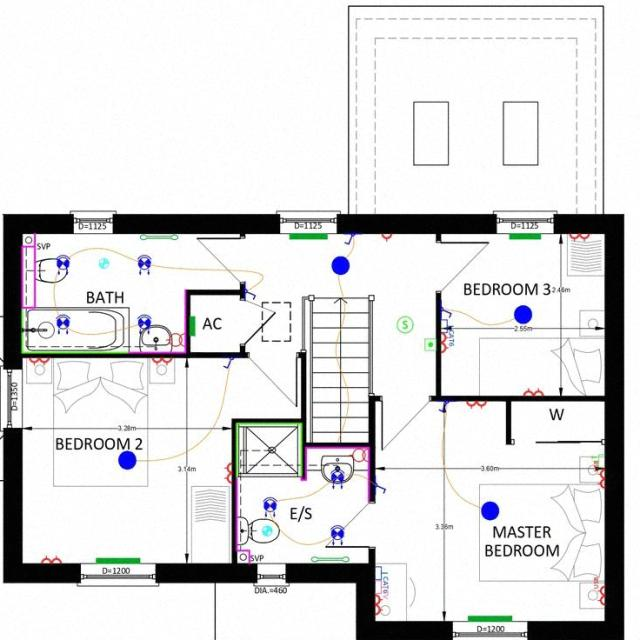Cat 6 Data Socket: (441, 318, 453, 346), (375, 565, 387, 592)
Ceiling Mounted Continuous Extract FanWith Boost Mode Activated By Light Switch: (97, 257, 108, 267), (262, 525, 271, 535)
Co-Ax TV Socket: (374, 579, 387, 598)
Double Socket: (593, 460, 604, 488), (568, 232, 589, 241), (374, 594, 383, 615), (40, 554, 60, 563), (440, 333, 449, 353), (465, 401, 486, 409), (223, 462, 231, 482), (522, 387, 542, 395), (152, 357, 172, 365)
Full Height Tiling: (21, 309, 125, 352), (235, 422, 302, 477)
Light Switch: (343, 233, 355, 244), (375, 482, 386, 493), (438, 401, 449, 412), (223, 357, 233, 369), (244, 289, 255, 298), (441, 307, 450, 317)
Low Energy Downlighter: (54, 254, 70, 274), (54, 313, 69, 333), (329, 524, 344, 544), (330, 468, 344, 489), (136, 254, 150, 274), (136, 313, 150, 333), (262, 496, 276, 516)
Low Energy Pendant Light: (479, 500, 498, 520), (330, 256, 350, 274), (513, 304, 531, 323), (117, 449, 135, 468)
Mains Wired Smoke Detector: (397, 316, 413, 332)
Programmable Room Thermostat: (422, 336, 434, 352)
Radiator: (289, 232, 327, 239), (96, 558, 140, 564), (467, 615, 511, 621), (509, 232, 540, 238), (188, 314, 194, 336)
Shaver Socket: (348, 448, 368, 462), (166, 332, 184, 346)
Single Socket: (380, 233, 392, 241)
Telephone Socket: (592, 454, 604, 467)
USB Double Socket: (592, 577, 604, 606)
